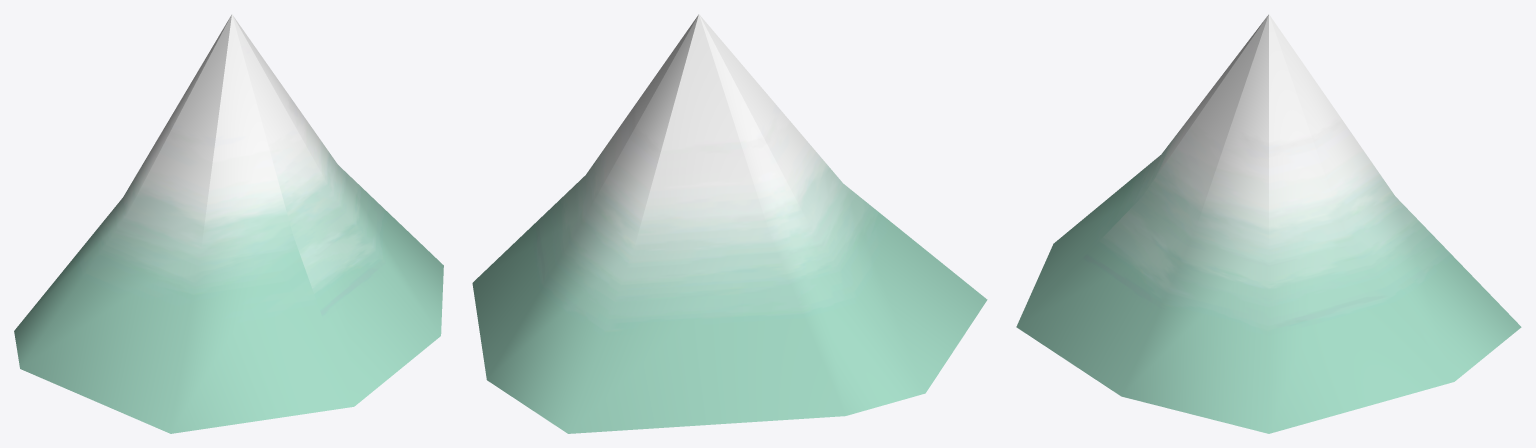
The model's file is Mountain.fbx.
3 views of the same model, side by side, from view 1: azimuth 30°, elevation 25°; view 2: azimuth 150°, elevation 25°; view 3: azimuth 270°, elevation 25° (orthographic). The views are drawn at different scales.
Parts seen in each view (by area): view 1: Mountain; view 2: Mountain; view 3: Mountain.
Boxes of the visible parts, <box> form: Mountain: <box>14,14,443,433</box>; Mountain: <box>472,14,987,433</box>; Mountain: <box>1016,14,1521,433</box>.
Size of the model in its own units: 0.8055 by 0.5507 by 0.8055.
1 material, 1 textured.
